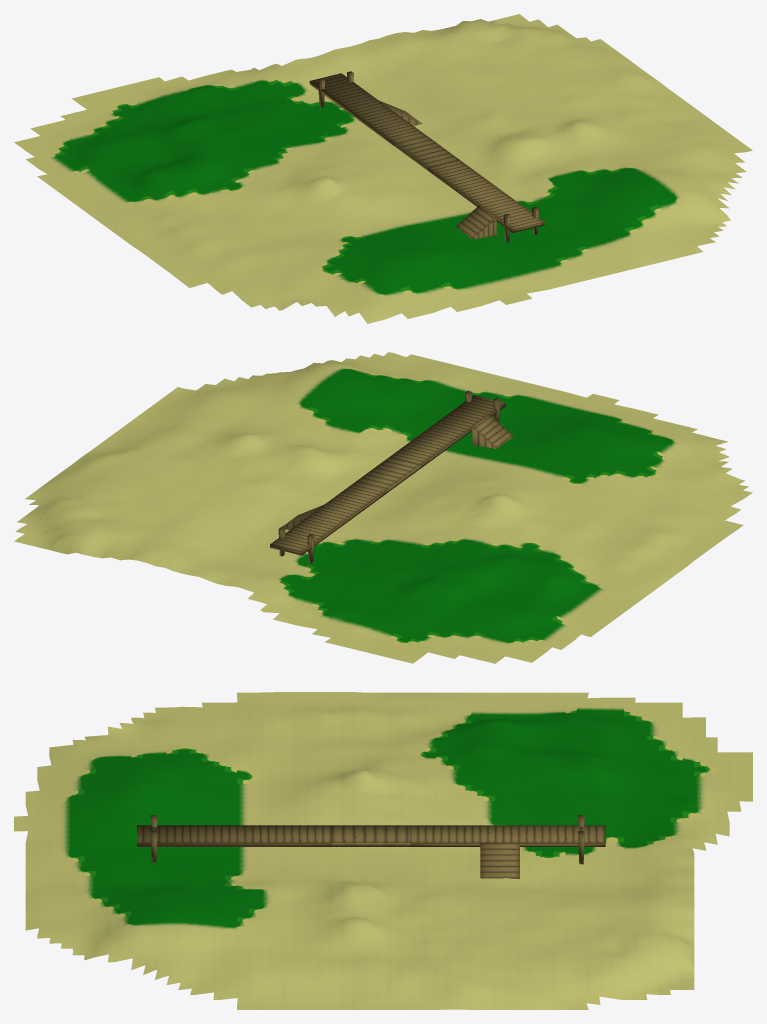
File: map_31.fbx
3 renders of one model, top to bottom at view 1: azimuth 30°, elevation 25°; view 2: azimuth 150°, elevation 25°; view 3: azimuth 270°, elevation 25°, orthographic. The views are drawn at different scales.
Visible parts, largest first — view 1: Plane.001; view 2: Plane.001; view 3: Plane.001.
Boxes of the visible parts, x1=… form: Plane.001: x1=14, y1=14, x2=752, y2=323; Plane.001: x1=14, y1=352, x2=752, y2=663; Plane.001: x1=14, y1=692, x2=752, y2=1009.
Size of the model in its own units: 128 by 6.56 by 126.
Materials: 8 (8 with a texture image).
